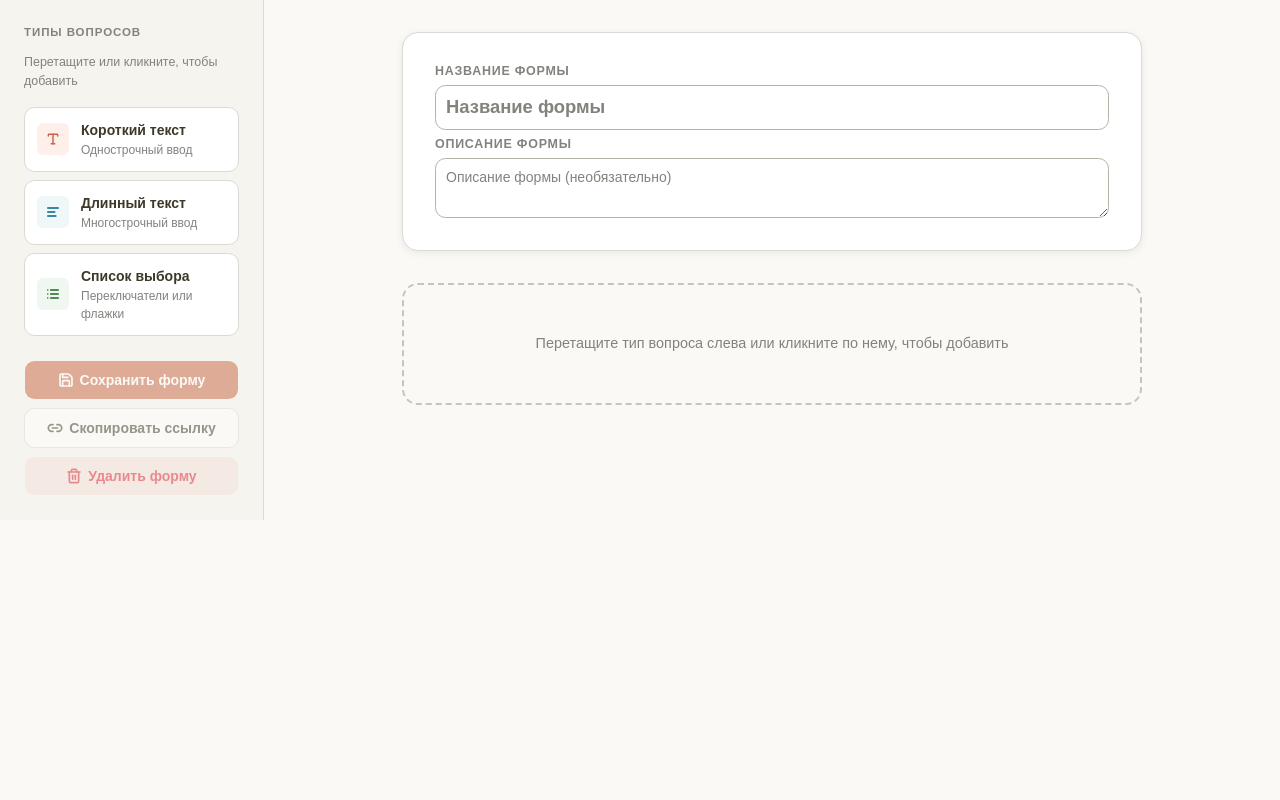
Test: FormBuilderForm — create mode › кнопка «Удалить» в карточке убирает её из списка
Click the button "Короткий текст Однострочный ввод" at x=132, y=139, box [24,107,239,172]
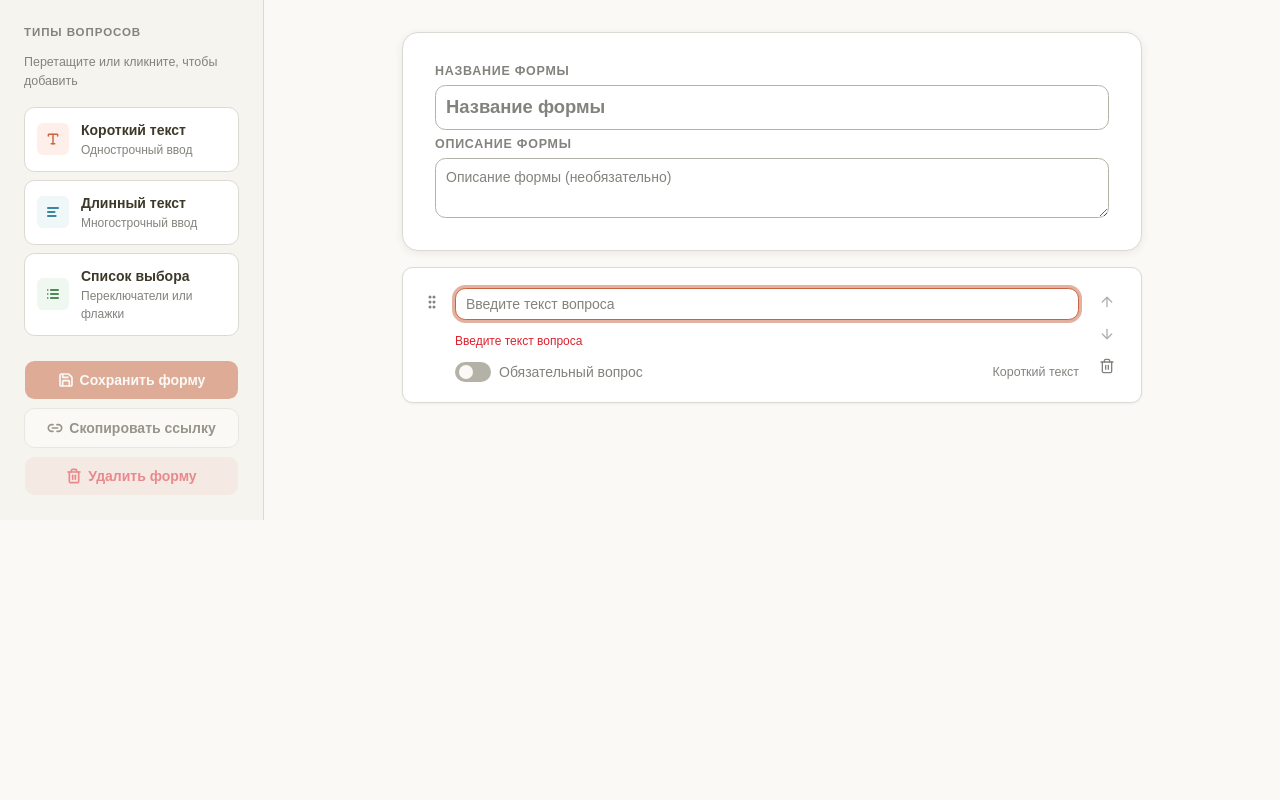
Click the button "Длинный текст Многострочный ввод" at x=132, y=212, box [24,180,239,245]
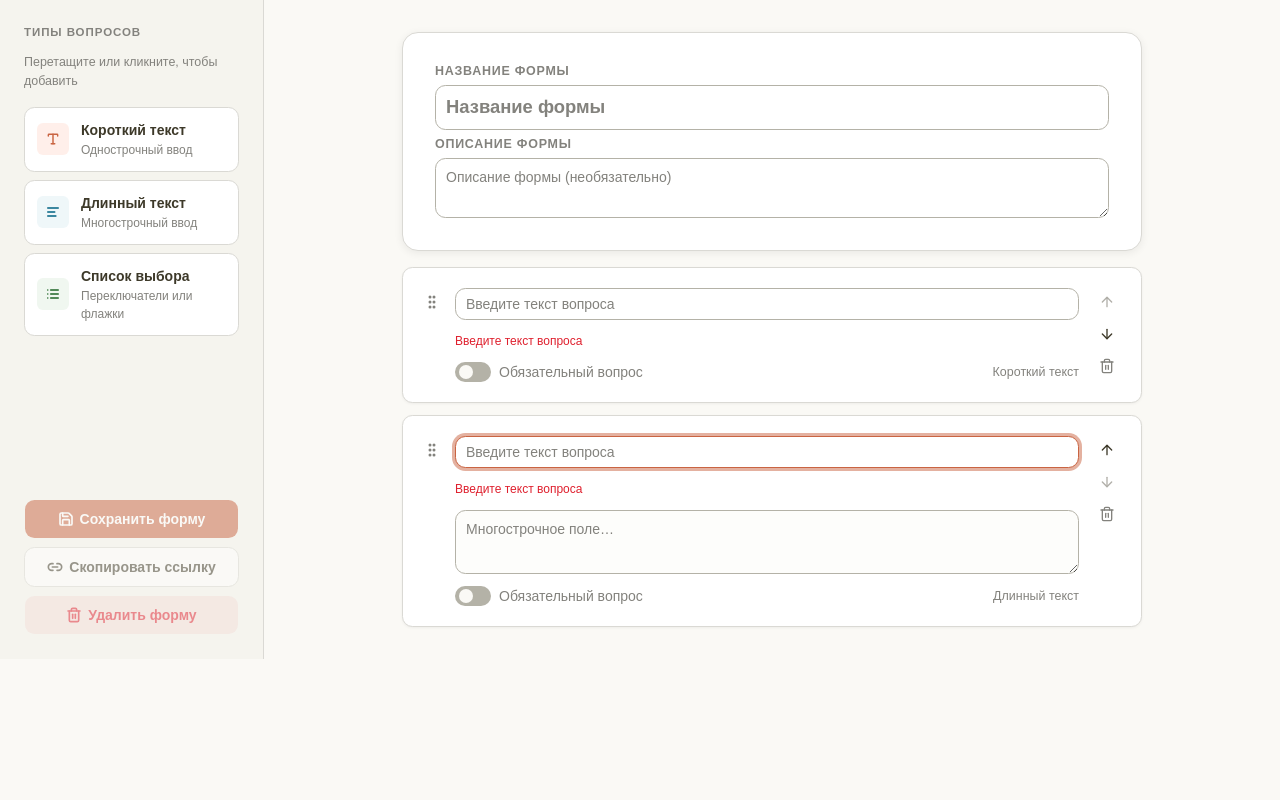
expect the number of elements with test id "question-card" is 2: met, box [402,267,1142,403]; [402,415,1142,627]
Click the 1st button named "удалить вопрос" at x=1107, y=366, box [1093,352,1121,380]
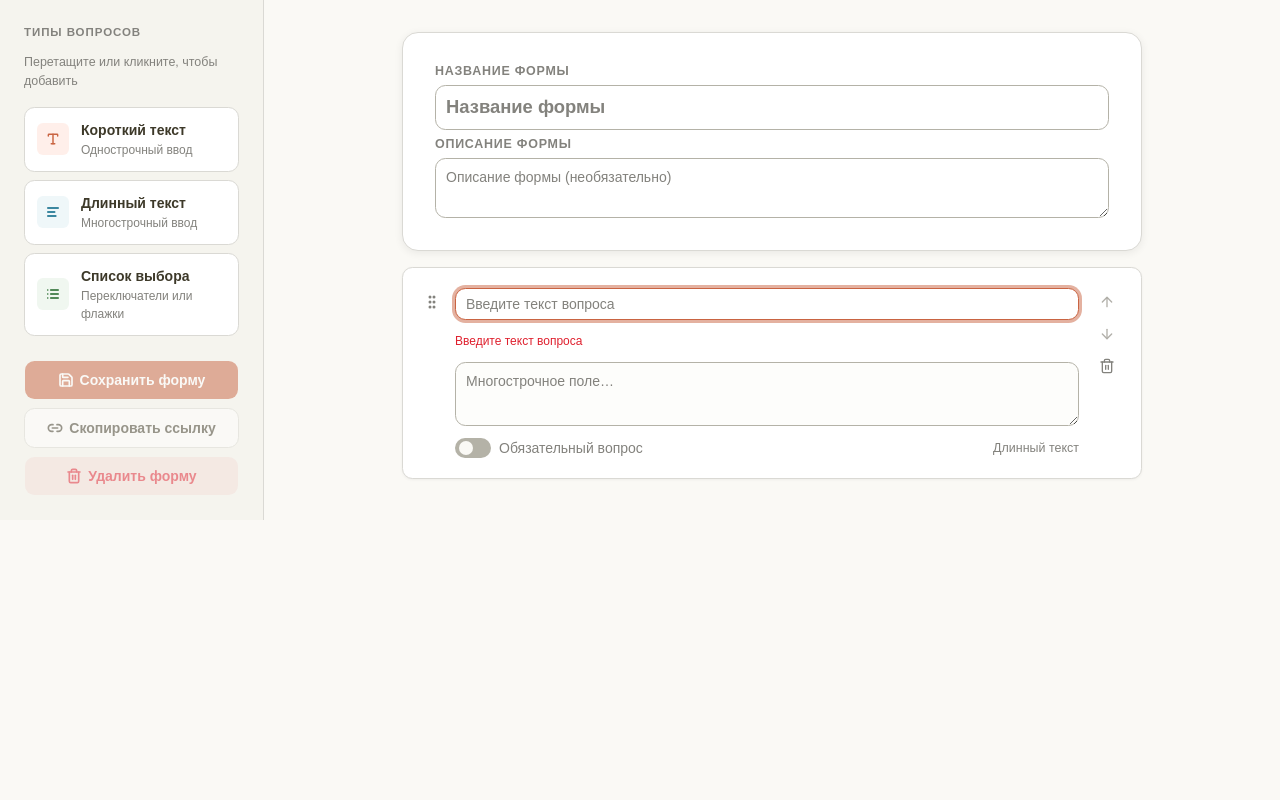
expect the number of elements with test id "question-card" is 1: met, box [402,267,1142,479]
